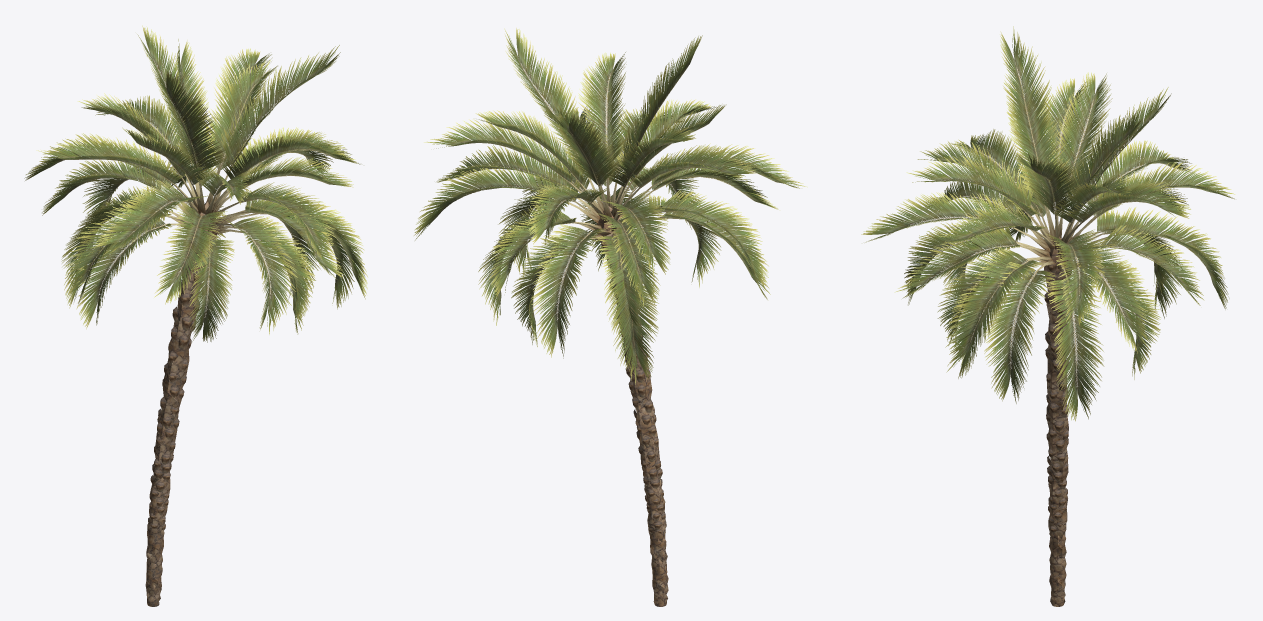
The picture shows the model from 3 angles, left to right: view 1: azimuth 30°, elevation 25°; view 2: azimuth 150°, elevation 25°; view 3: azimuth 270°, elevation 25°; orthographic projection. The views are drawn at different scales.
Visible parts, largest first — view 1: Tree_1, Tree_0, Tree_2, Tree_3; view 2: Tree_1, Tree_0, Tree_3, Tree_2; view 3: Tree_1, Tree_0, Tree_2, Tree_3.
Part boxes in pixels (box(x1,y1,x2,y2)): Tree_1: box(24, 25, 367, 342); Tree_0: box(145, 201, 216, 606); Tree_2: box(148, 234, 216, 530); Tree_3: box(148, 142, 266, 249); Tree_1: box(414, 28, 807, 384); Tree_0: box(597, 206, 668, 606); Tree_3: box(543, 149, 685, 246); Tree_2: box(600, 239, 666, 533); Tree_1: box(861, 26, 1235, 421); Tree_0: box(1044, 236, 1072, 606); Tree_2: box(1044, 262, 1071, 534); Tree_3: box(990, 180, 1136, 293).
Bounding box in the file's own units: 3.62 × 5.77 × 3.62.
Materials: 4 (4 with a texture image).
